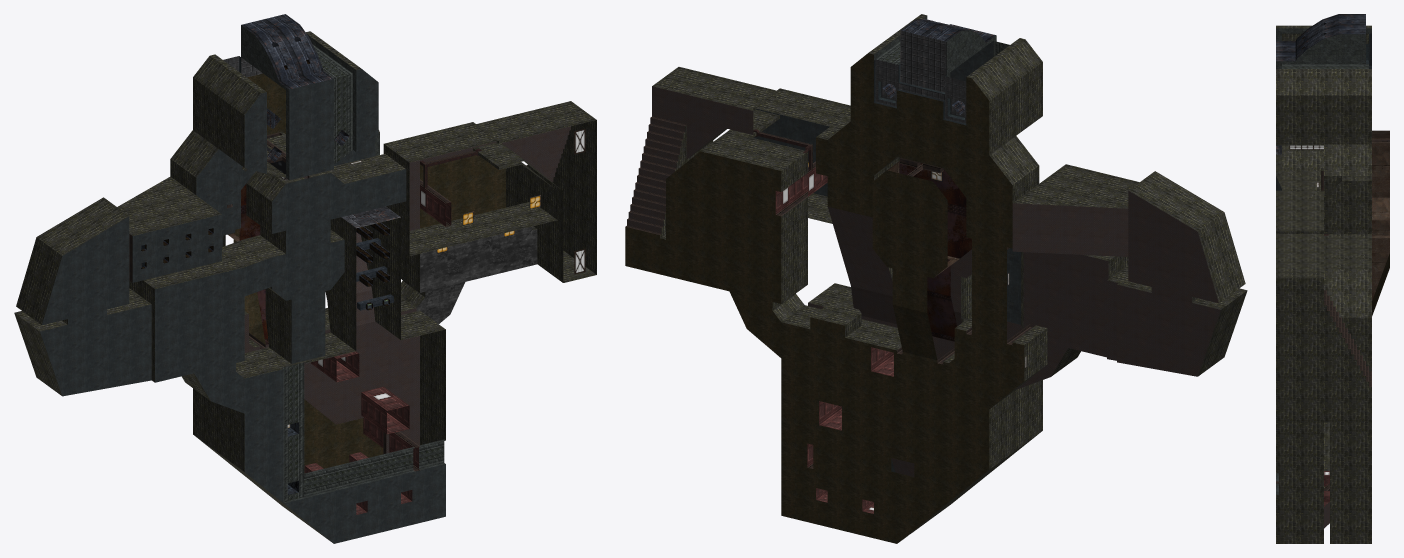
File: DOM-Requiem.obj
3 renders of one model, left to right at view 1: azimuth 30°, elevation 25°; view 2: azimuth 150°, elevation 25°; view 3: azimuth 270°, elevation 25°, orthographic. The views are drawn at different scales.
Visible parts, largest first — view 1: DecayedS_Base_Dterbas1, Indus1_Stonestuff_ralPanBk, UTtech1_Floor_hashlow-cont, UTtech1_Floor_floor1a, Coret_FX_pillar_A_Pilr-Cor1, UTtech1_Base_cbnubase2c, UTtech1_pillar_ClfPilr3, UTtech1_pillar_pillarpln, Coret_FX_Base_A_Base1, UTtech1_pillar_bmbusted1, RainFX_Rtrim1a, RainFX_hatch3 (+2 smaller); view 2: UTtech1_Floor_floor1a, UTtech1_Floor_hashlow-cont, Indus1_Stonestuff_ralPanBk, RainFX_hatch3, DecayedS_Base_Dterbas1, UTtech1_Floor_pmbfloor-B, RainFX_Rtrim1a, UTtech1_pillar_ClfPilr3, UTtech1_Floor_pmbfloor-C, Coret_FX_Base_A_Base1, UTtech1_pillar_pillarpln, UTtech1_Wall_bmwall3; view 3: Indus1_Stonestuff_ralPanBk, RainFX_r-plates-g, Coret_FX_Base_A_Base1, UTtech1_pillar_pillarpln, RainFX_Rtrim1a, Coret_FX_pillar_A_Pilr-Cor1, UTtech1_Floor_floor1a, UTtech1_Light_rClifLt1, UTtech1_Wall_bmwall3.
Boxes of the visible parts, x1,y1,x2,y2 form: DecayedS_Base_Dterbas1: [40, 69, 445, 543]; Indus1_Stonestuff_ralPanBk: [14, 31, 596, 541]; UTtech1_Floor_hashlow-cont: [244, 126, 570, 512]; UTtech1_Floor_floor1a: [228, 73, 505, 473]; Coret_FX_pillar_A_Pilr-Cor1: [282, 44, 444, 501]; UTtech1_Base_cbnubase2c: [416, 226, 537, 323]; UTtech1_pillar_ClfPilr3: [304, 189, 451, 514]; UTtech1_pillar_pillarpln: [241, 14, 333, 89]; Coret_FX_Base_A_Base1: [241, 25, 445, 503]; UTtech1_pillar_bmbusted1: [141, 59, 389, 310]; RainFX_Rtrim1a: [129, 132, 527, 471]; RainFX_hatch3: [239, 184, 268, 344]; UTtech1_Floor_floor1a: [625, 53, 1024, 543]; UTtech1_Floor_hashlow-cont: [627, 86, 1220, 533]; Indus1_Stonestuff_ralPanBk: [652, 14, 1247, 541]; RainFX_hatch3: [899, 162, 971, 341]; DecayedS_Base_Dterbas1: [753, 41, 1020, 472]; UTtech1_Floor_pmbfloor-B: [898, 30, 946, 100]; RainFX_Rtrim1a: [626, 116, 1032, 468]; UTtech1_pillar_ClfPilr3: [775, 167, 893, 513]; UTtech1_Floor_pmbfloor-C: [875, 59, 966, 123]; Coret_FX_Base_A_Base1: [874, 16, 996, 77]; UTtech1_pillar_pillarpln: [900, 19, 995, 42]; UTtech1_Wall_bmwall3: [874, 59, 966, 125]; Indus1_Stonestuff_ralPanBk: [1276, 25, 1371, 543]; RainFX_r-plates-g: [1372, 130, 1389, 300]; Coret_FX_Base_A_Base1: [1276, 28, 1371, 494]; UTtech1_pillar_pillarpln: [1276, 14, 1365, 61]; RainFX_Rtrim1a: [1276, 139, 1389, 490]; Coret_FX_pillar_A_Pilr-Cor1: [1282, 64, 1368, 68]; UTtech1_Floor_floor1a: [1372, 253, 1389, 315]; UTtech1_Light_rClifLt1: [1289, 145, 1323, 149]; UTtech1_Wall_bmwall3: [1366, 33, 1371, 68].
Bounding box in the file's own units: 60.35 × 51.51 × 11.58.
